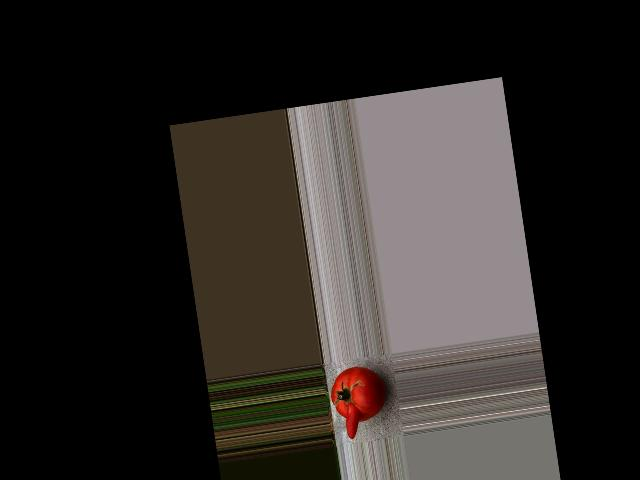tomato: (327, 362, 388, 425)
